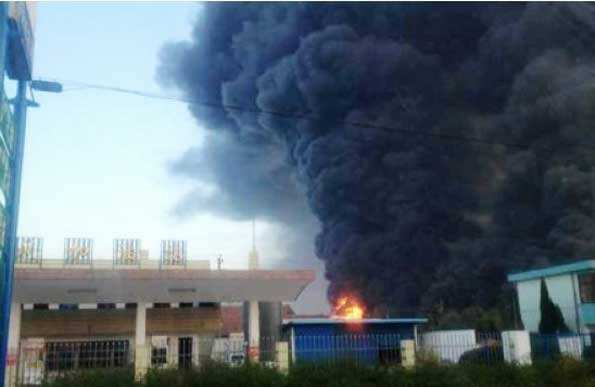fire: (329, 289, 369, 325)
